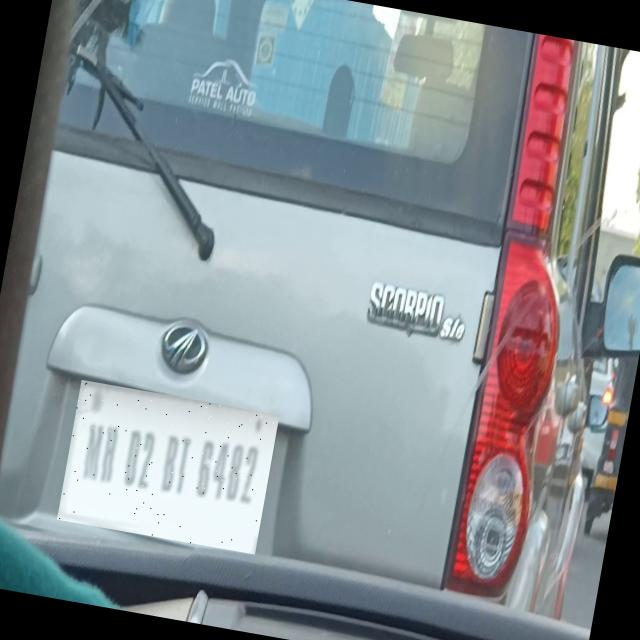Plate: (57, 381, 280, 556)
